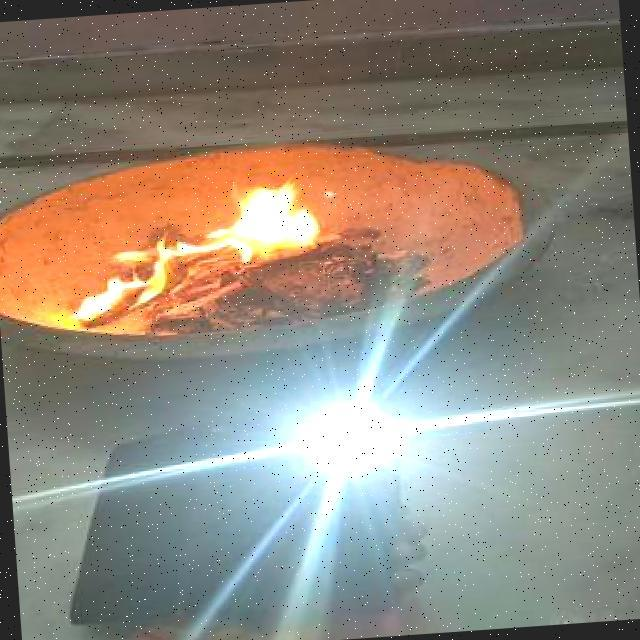Fire: (46, 164, 329, 321)
